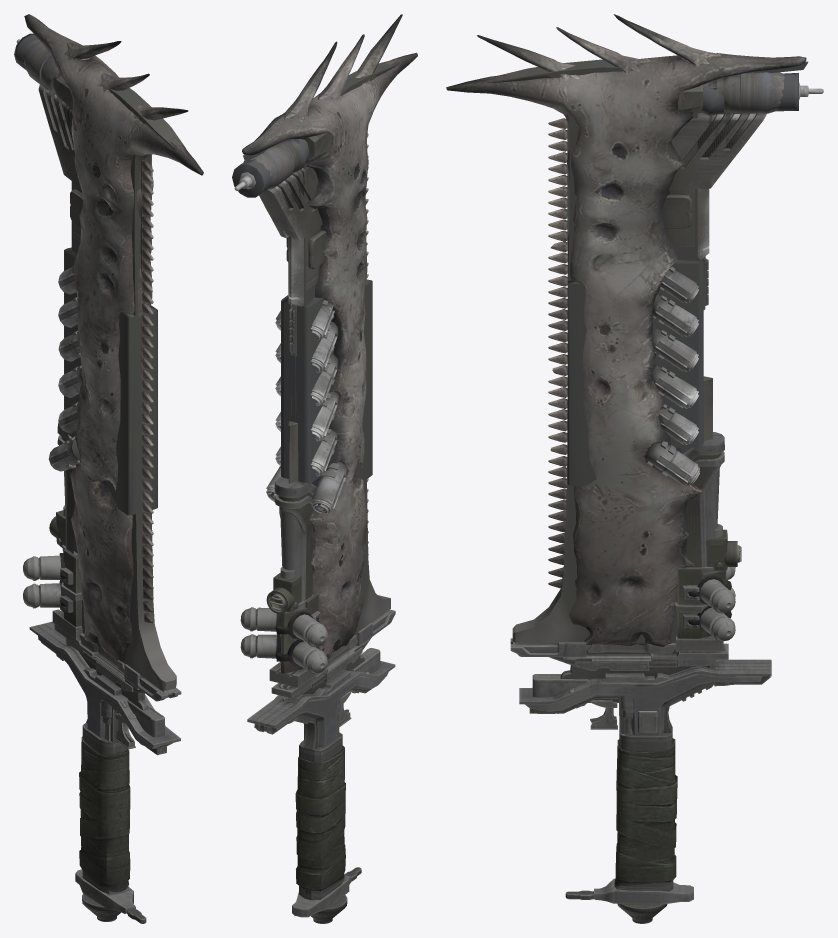
The model's file is lament.gltf.
3 renders of one model, left to right at view 1: azimuth 30°, elevation 25°; view 2: azimuth 150°, elevation 25°; view 3: azimuth 270°, elevation 25°, orthographic. The views are drawn at different scales.
Parts seen in each view (by area): view 1: mesh_2406425245-0_0_0_gbuffer, mesh_1369279795-0_0_0_gbuffer, mesh_2406425245-0_0_1_transparents; view 2: mesh_2406425245-0_0_0_gbuffer, mesh_1369279795-0_0_0_gbuffer, mesh_2406425245-0_0_1_transparents; view 3: mesh_2406425245-0_0_0_gbuffer, mesh_1369279795-0_0_0_gbuffer, mesh_2406425245-0_0_1_transparents.
Boxes of the visible parts, x1,y1,x2,y2 form: mesh_2406425245-0_0_0_gbuffer: [16, 14, 203, 662]; mesh_1369279795-0_0_0_gbuffer: [23, 422, 181, 923]; mesh_2406425245-0_0_1_transparents: [14, 24, 203, 690]; mesh_2406425245-0_0_0_gbuffer: [234, 14, 417, 659]; mesh_1369279795-0_0_0_gbuffer: [240, 476, 395, 923]; mesh_2406425245-0_0_1_transparents: [232, 16, 399, 651]; mesh_2406425245-0_0_0_gbuffer: [446, 14, 823, 646]; mesh_1369279795-0_0_0_gbuffer: [510, 432, 771, 923]; mesh_2406425245-0_0_1_transparents: [447, 29, 808, 642].
Size of the model in its own units: 1.26 by 12.35 by 4.67.
Materials: 3 (3 with a texture image).
